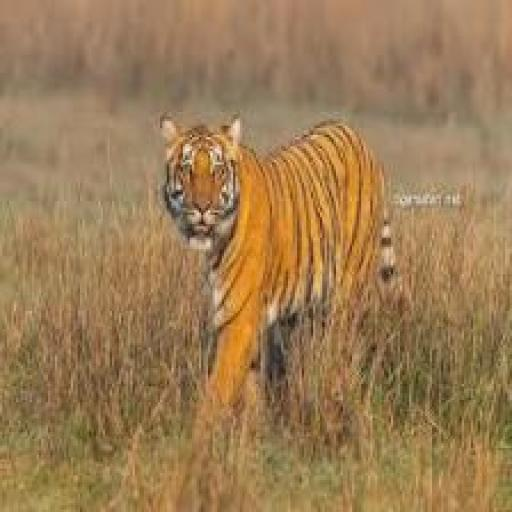Tiger: (161, 116, 385, 425)
